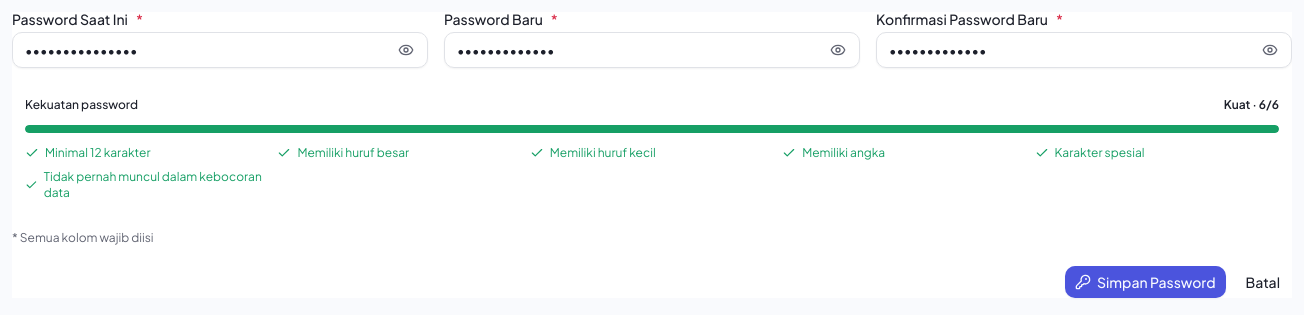
Scenario: SecurityPasswordForm › renders show-hide controls, strength checklist, and progress bar
The width and height of the screenshot is (1304, 315).
Expected: the text with test id "password-strength-label" reads "Kuat · 6/6", [1224, 97, 1279, 112]
Click the 2nd button named "Tampilkan password": click(838, 50) [824, 36, 852, 64]
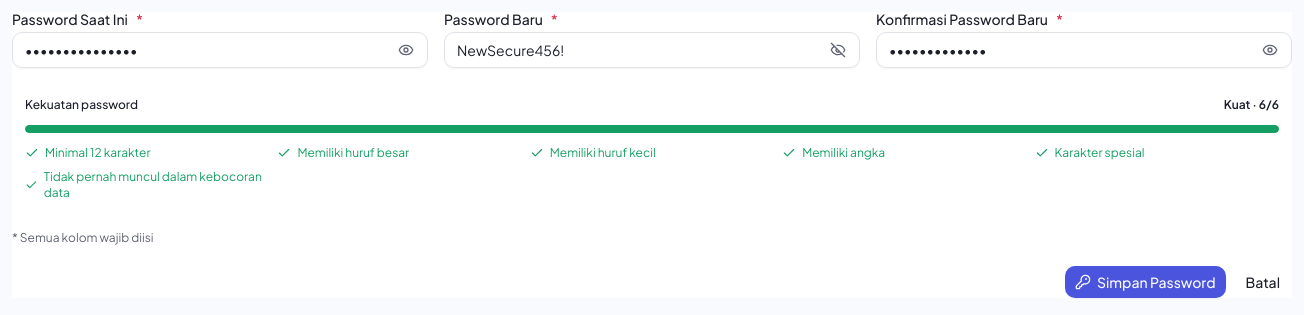
Now the field with id "new_password" shows its text, box [444, 32, 860, 68]
